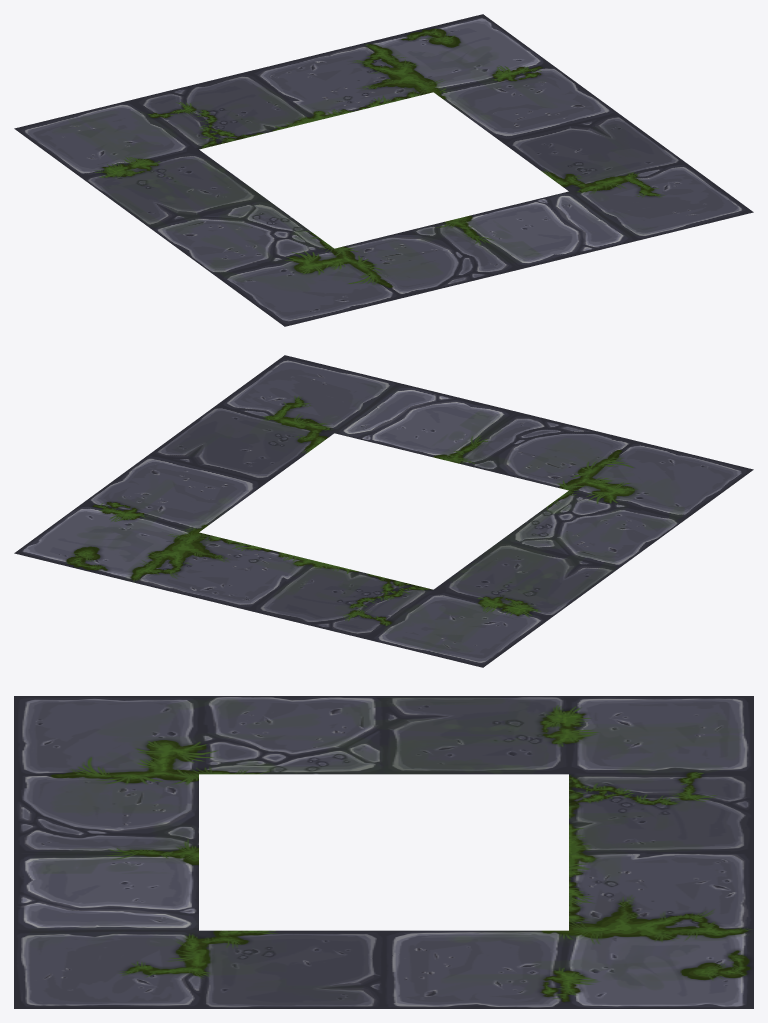
The model's file is MOD_Floor_01_O_straight_med_hole.fbx.
3 renders of one model, top to bottom at view 1: azimuth 30°, elevation 25°; view 2: azimuth 150°, elevation 25°; view 3: azimuth 270°, elevation 25°, orthographic. The views are drawn at different scales.
Parts seen in each view (by area): view 1: MOD_Floor_01_O_straight_med_hole; view 2: MOD_Floor_01_O_straight_med_hole; view 3: MOD_Floor_01_O_straight_med_hole.
Boxes of the visible parts, <box> form: MOD_Floor_01_O_straight_med_hole: <box>14,14,753,326</box>; MOD_Floor_01_O_straight_med_hole: <box>14,355,753,667</box>; MOD_Floor_01_O_straight_med_hole: <box>14,696,753,1008</box>.
Bounding box in the file's own units: 400 × 0 × 400.
